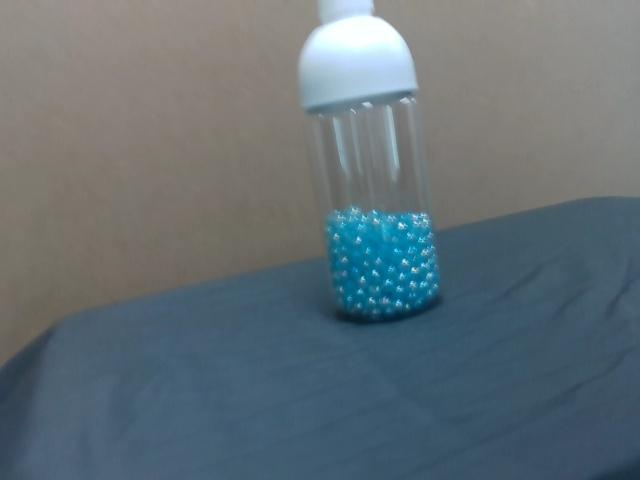blue_bottle: (323, 206, 442, 320)
